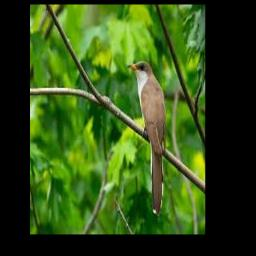Cuckoo: (127, 61, 166, 215)
